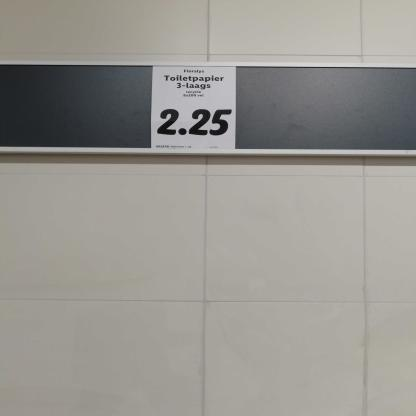prtg: (152, 67, 237, 151)
